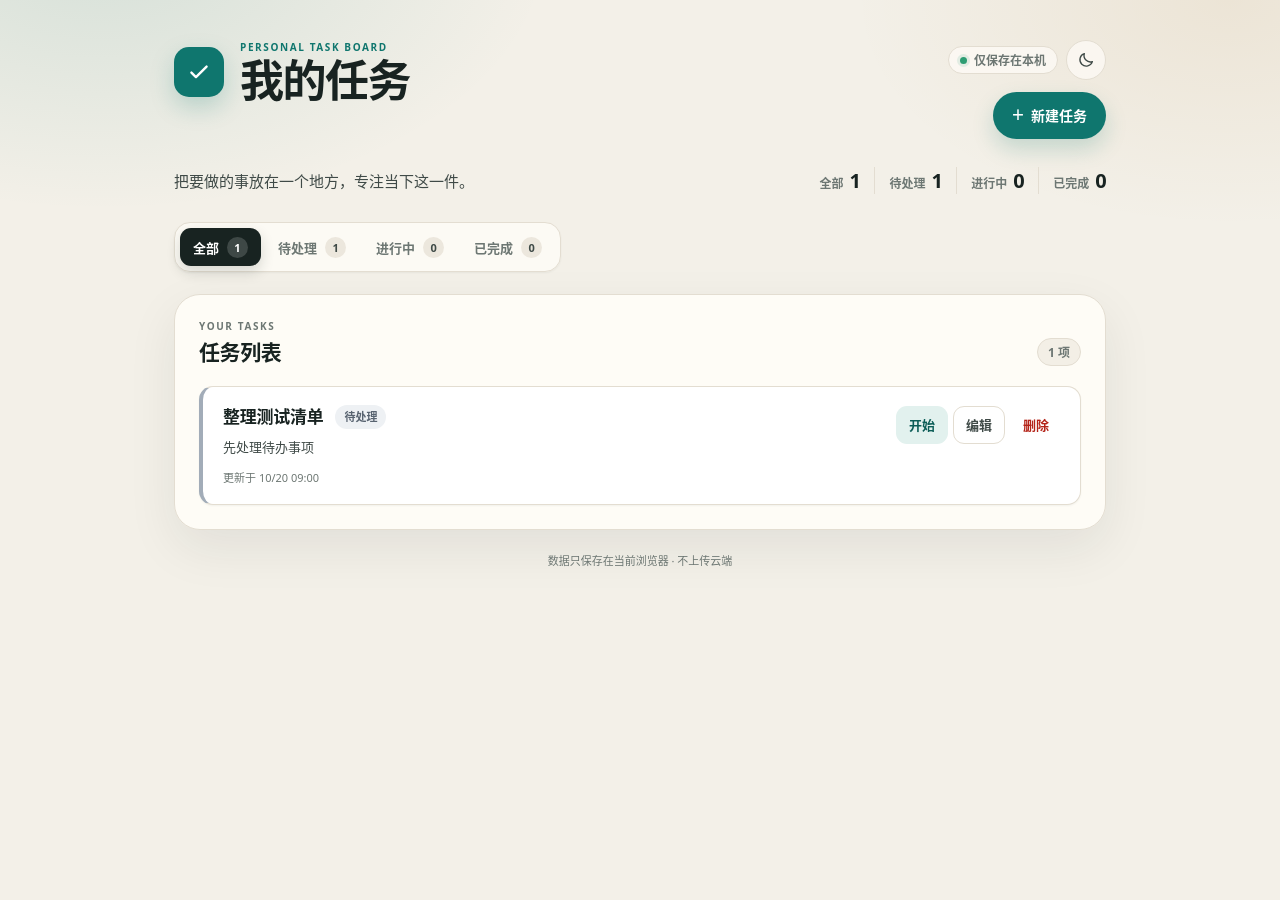
Test: create and edit › edits a task and persists the new status
Click the button with aria-label "编辑任务：". click: (979, 425)
box: [953, 406, 1005, 444]
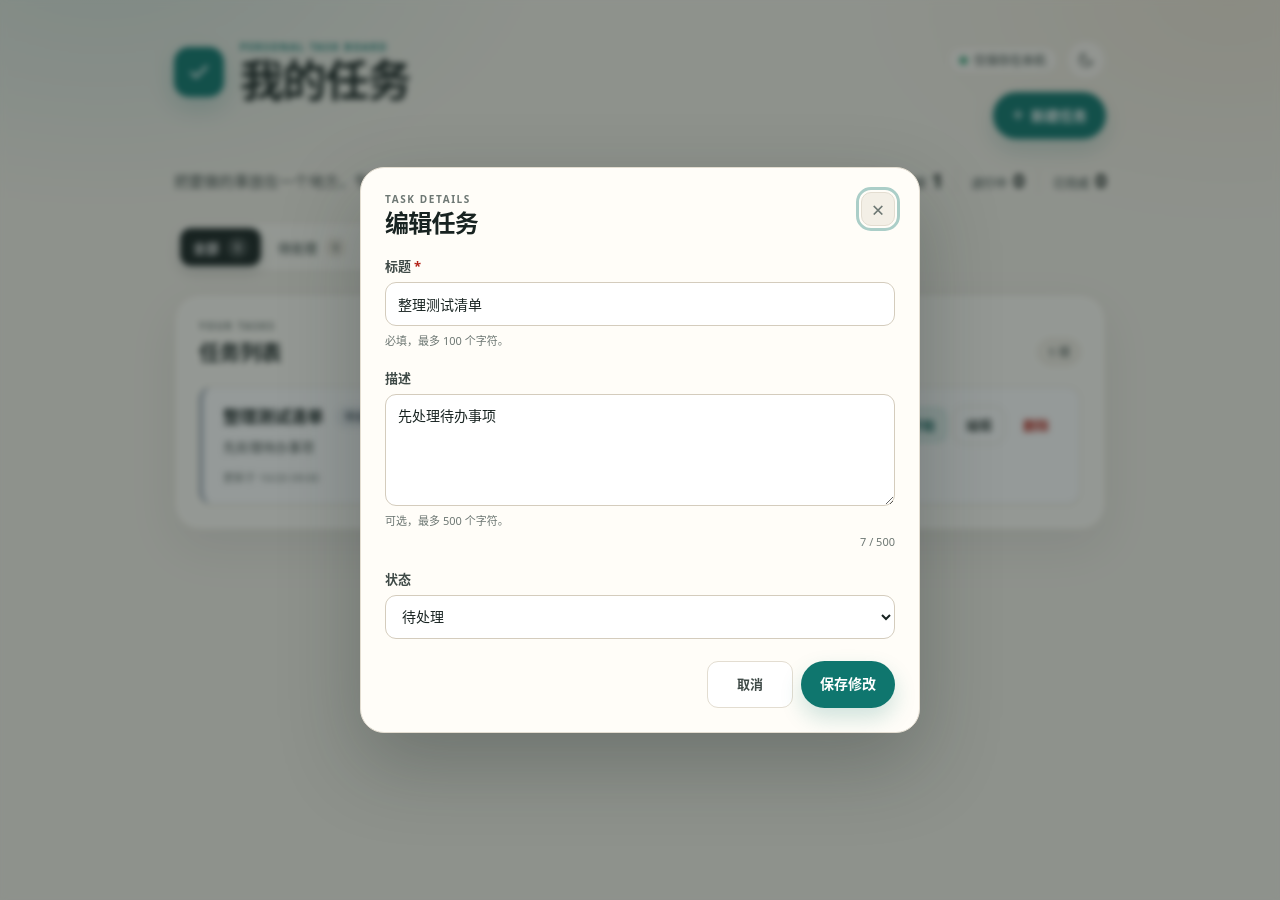
Result: the field labelled "标题*" holds "整理测试清单"
Replace the text in the field labelled "标题*" with "整理测试清单（已编辑）". click: (640, 304)
box: [385, 282, 895, 326]
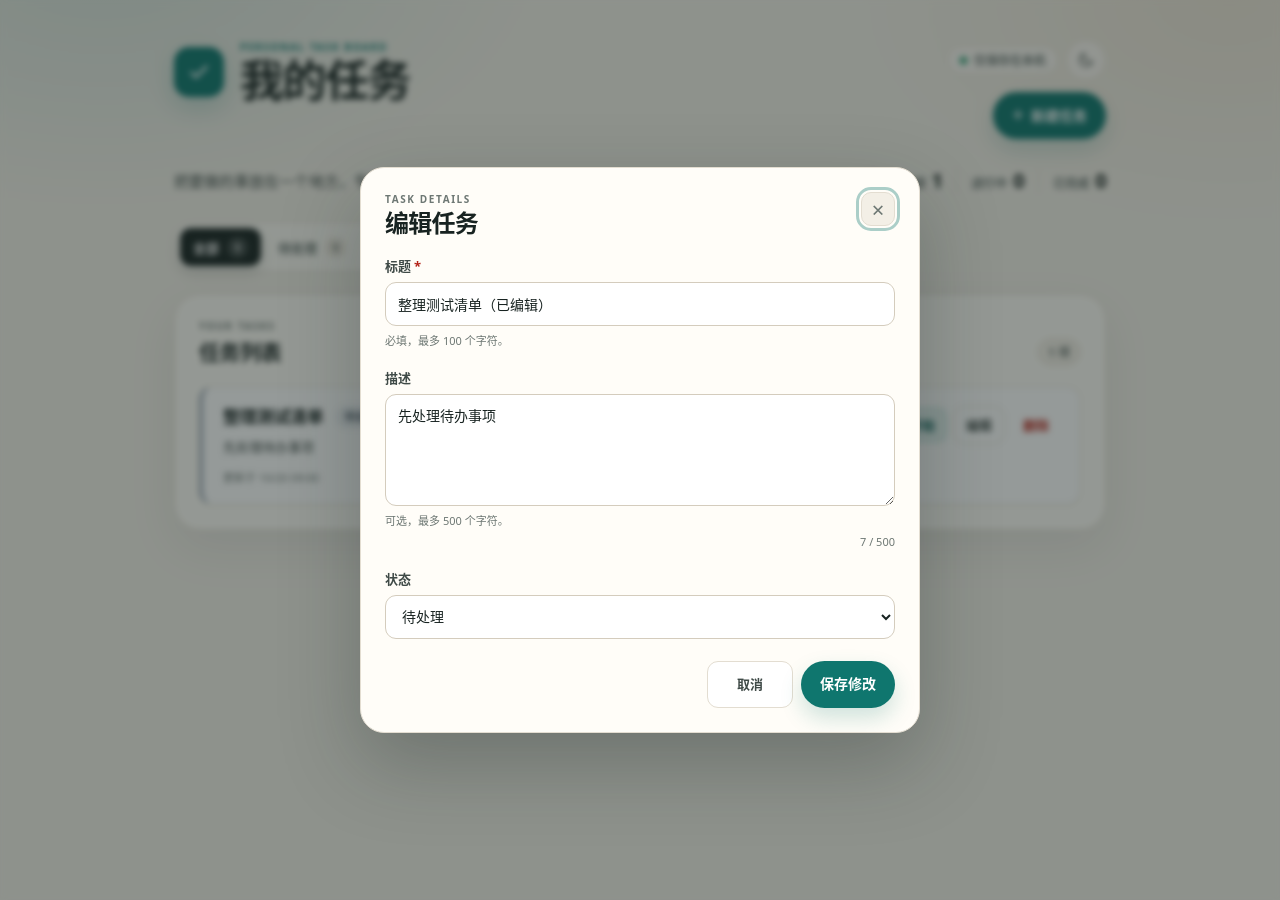
Select "进行中" in the dropdown labelled "状态". click: (640, 617)
box: [385, 595, 895, 639]
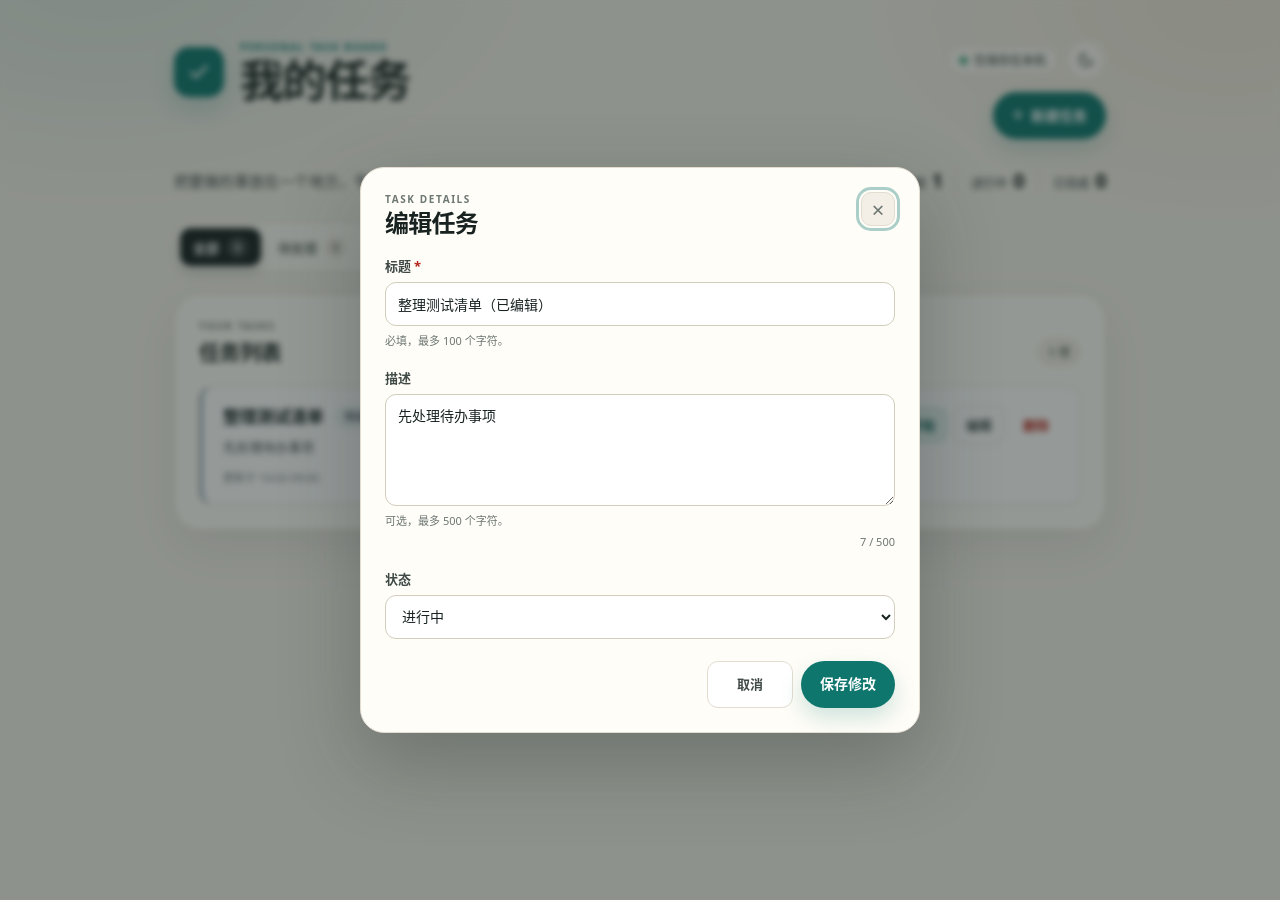
Click the button "保存修改". click: (848, 684)
box: [801, 661, 895, 708]
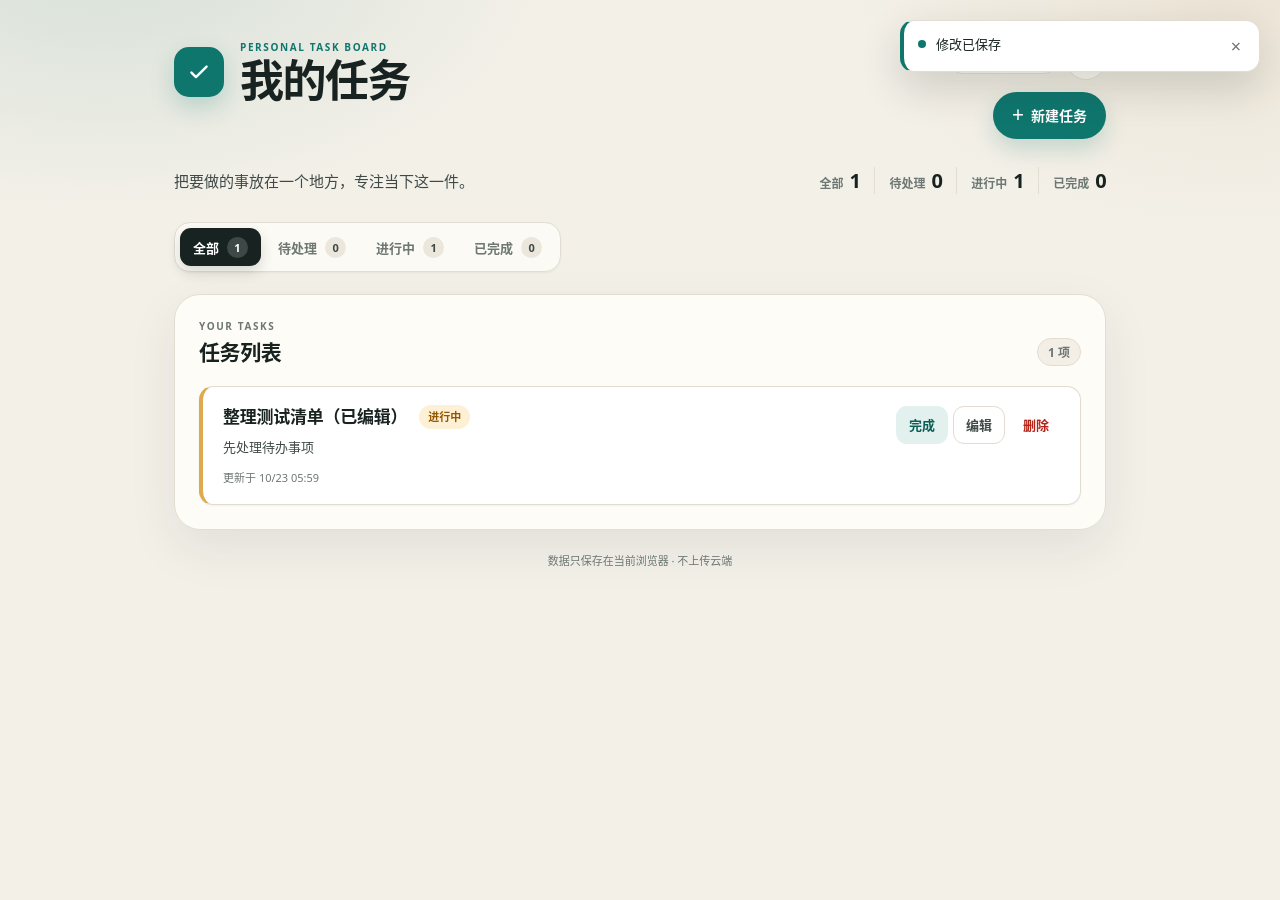
Result: the heading "编辑任务" is gone
Result: the heading "整理测试清单（已编辑）" is shown at [223, 405, 407, 429]
Result: the message shows "修改已保存" at [936, 35, 1001, 53]
